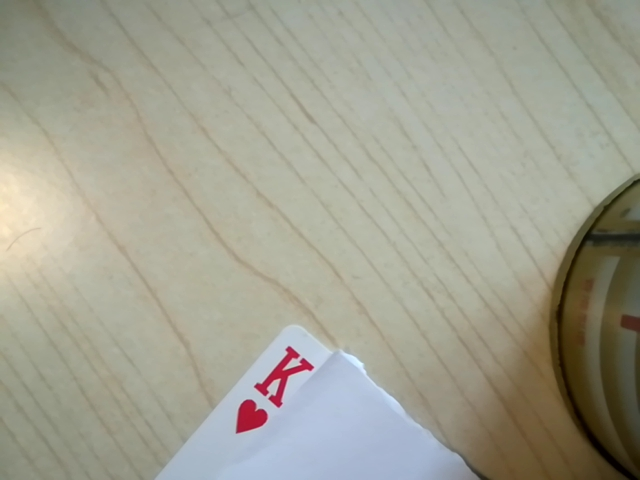hx k: (227, 340, 317, 438)
